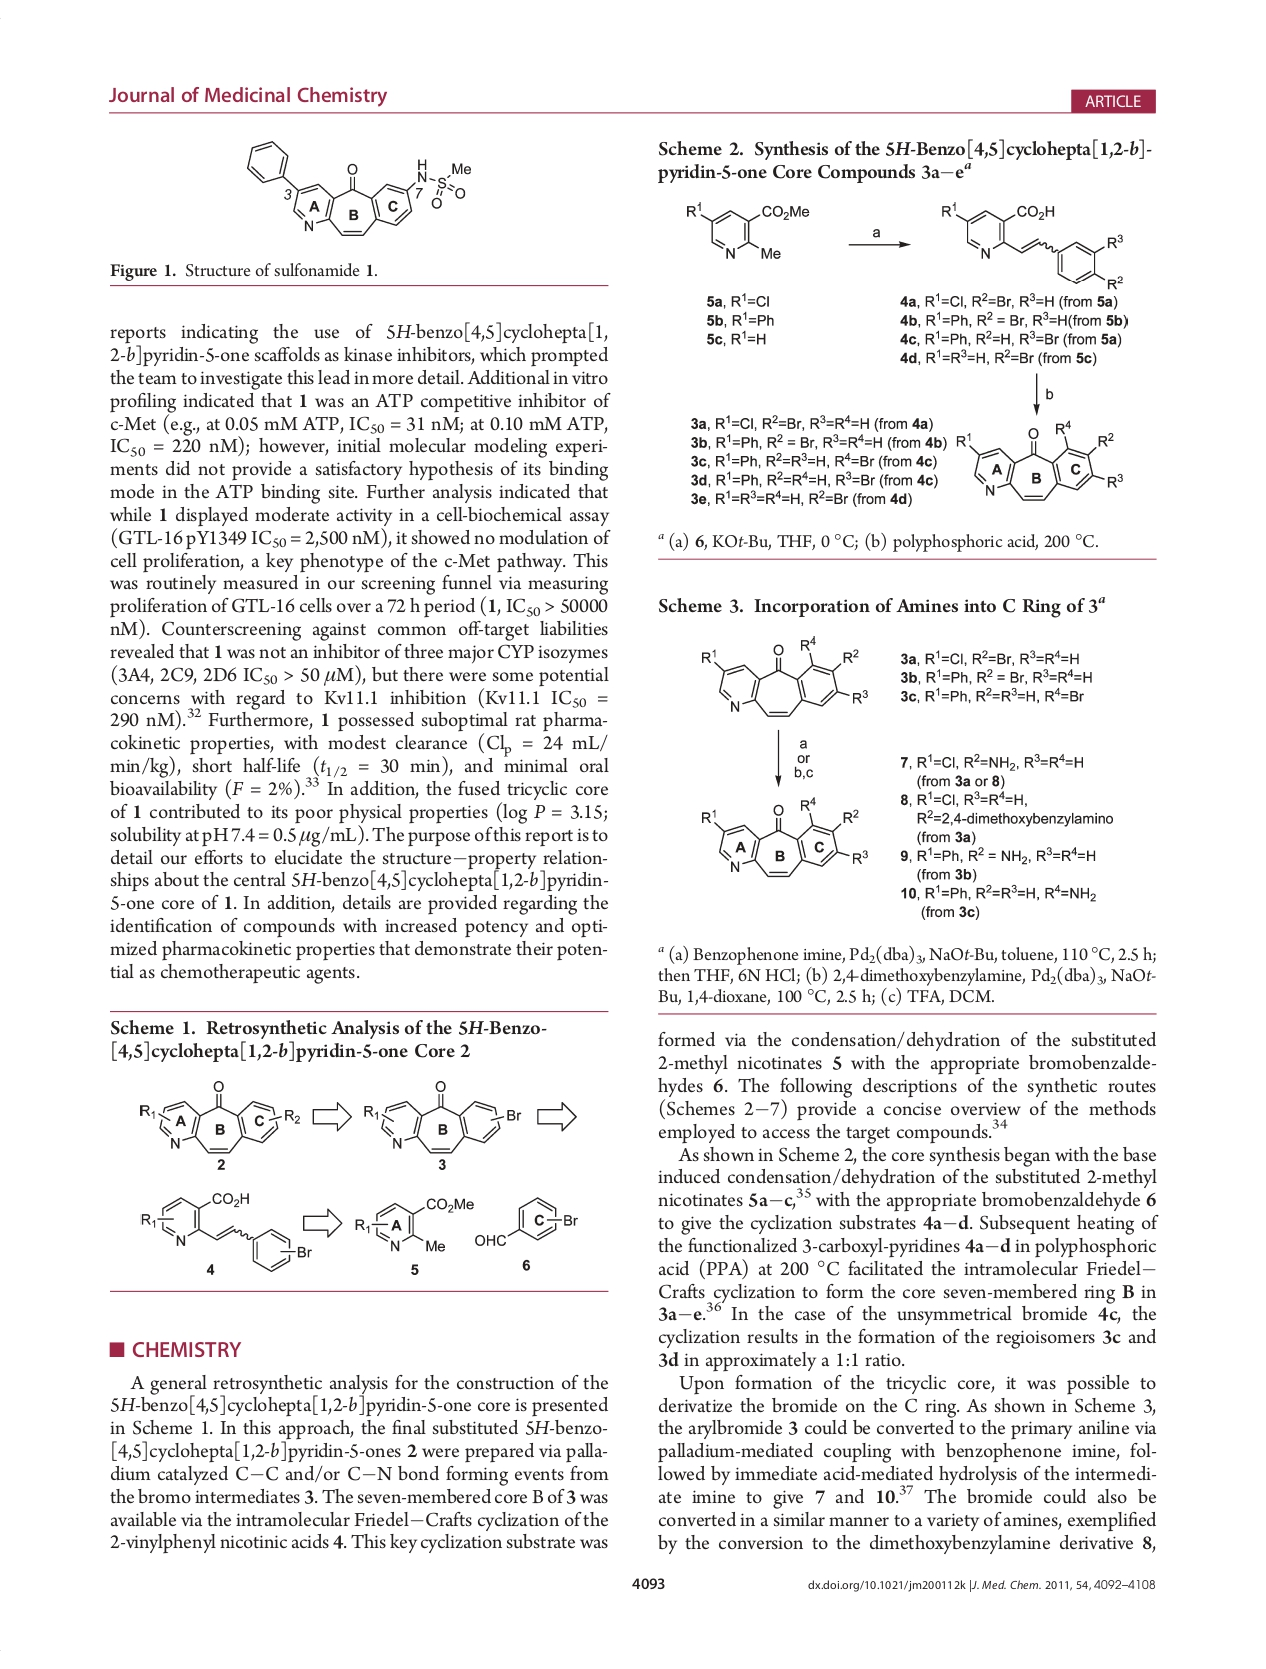exist_molecular: (239, 136, 473, 237), (938, 195, 1126, 293), (699, 795, 876, 884), (949, 420, 1125, 508), (698, 630, 870, 719), (138, 1188, 315, 1273), (140, 1079, 301, 1158), (360, 1079, 523, 1157), (678, 192, 813, 270), (351, 1192, 475, 1258), (473, 1194, 582, 1251)
